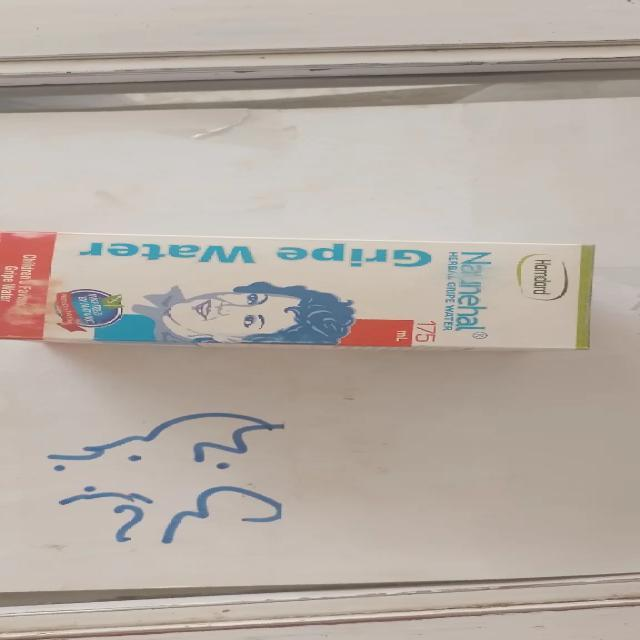drug-name: (458, 246, 494, 334)
